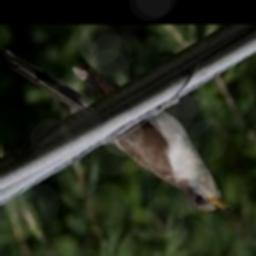Cuckoo: (0, 50, 233, 211)
